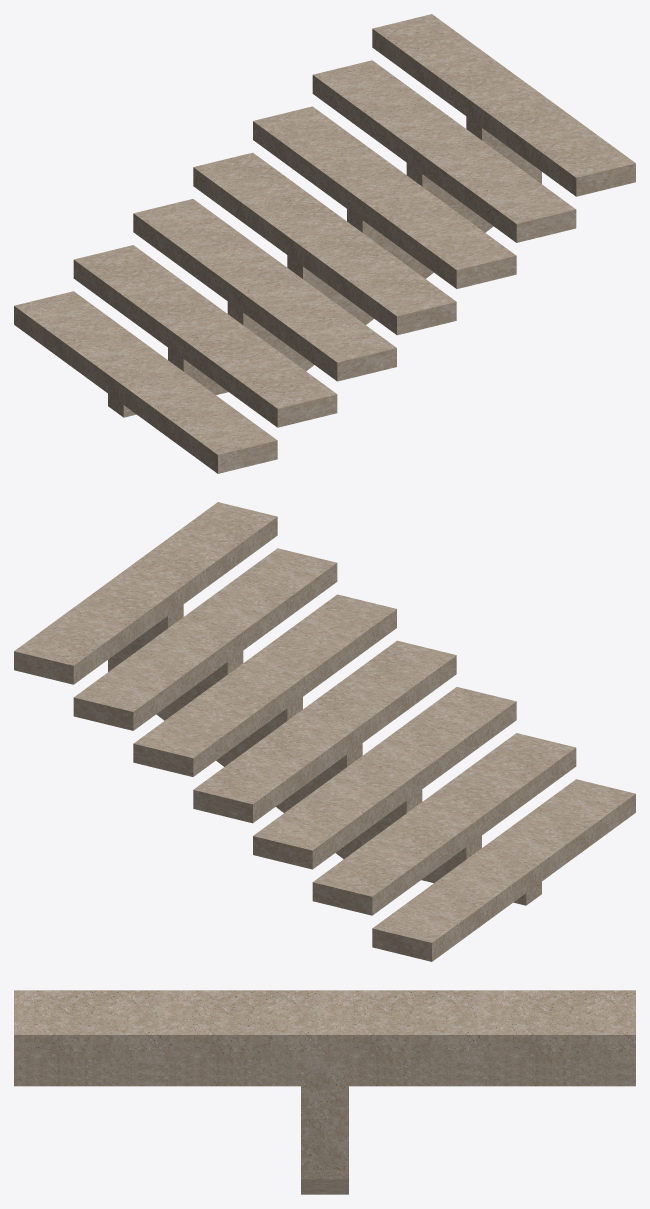
File: Soupnewstairs005.glb
3 views of the same model, one above another, from view 1: azimuth 30°, elevation 25°; view 2: azimuth 150°, elevation 25°; view 3: azimuth 270°, elevation 25° (orthographic). The views are drawn at different scales.
Parts seen in each view (by area): view 1: Soupnewstairs005_high_1; view 2: Soupnewstairs005_high_1; view 3: Soupnewstairs005_high_1.
Part boxes in pixels (<box>): Soupnewstairs005_high_1: <box>14,14,635,473</box>; Soupnewstairs005_high_1: <box>14,502,635,961</box>; Soupnewstairs005_high_1: <box>14,990,635,1194</box>.
Size of the model in its own units: 2.6 by 1.32 by 2.2.
Materials: 1 (1 with a texture image).
